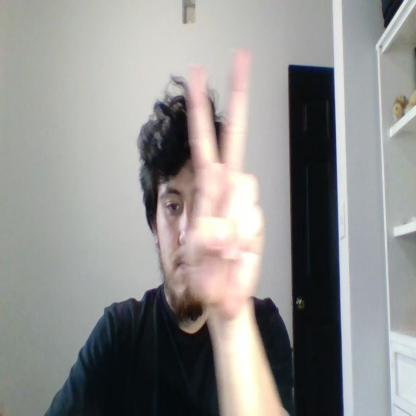V: (186, 53, 264, 314)
